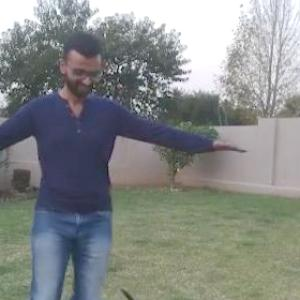land: (0, 57, 188, 299)
